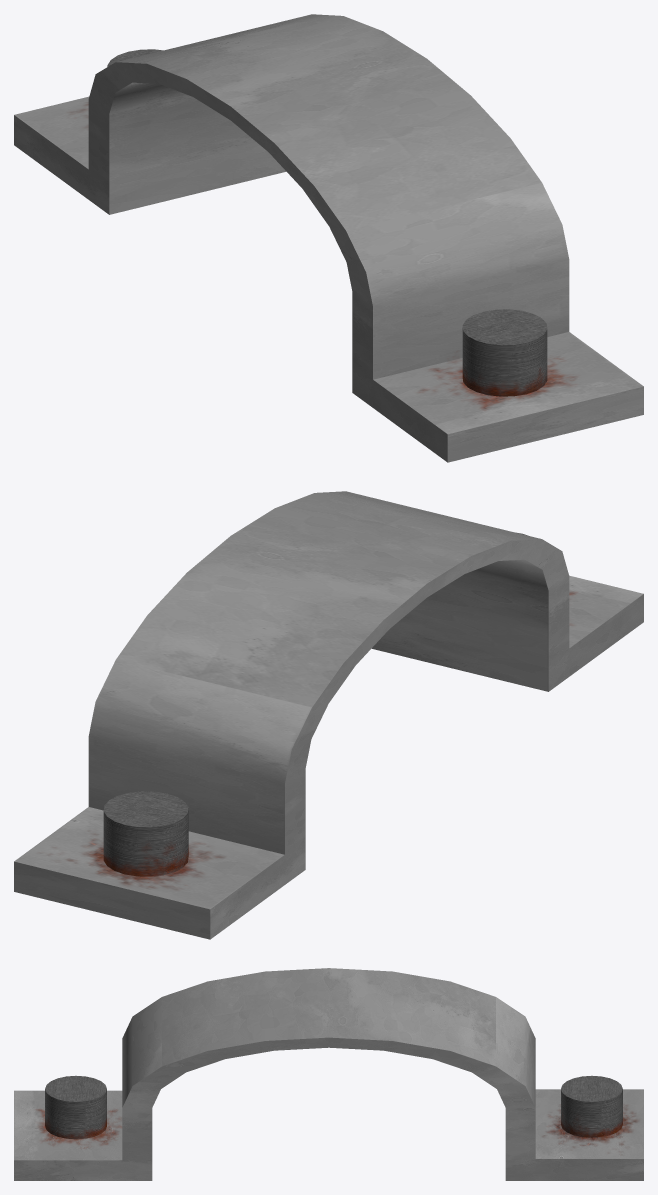
File: metal_cuff.fbx
3 views of the same model, one above another, from view 1: azimuth 30°, elevation 25°; view 2: azimuth 150°, elevation 25°; view 3: azimuth 270°, elevation 25° (orthographic). The views are drawn at different scales.
Visible parts, largest first — view 1: metal_cuff, screw_r; view 2: metal_cuff, screw_l; view 3: metal_cuff, screw_r, screw_l.
Boxes of the visible parts, x1=… form: metal_cuff: x1=14, y1=14, x2=643, y2=462; screw_r: x1=462, y1=309, x2=547, y2=396; metal_cuff: x1=14, y1=491, x2=643, y2=939; screw_l: x1=103, y1=791, x2=188, y2=876; metal_cuff: x1=14, y1=968, x2=643, y2=1180; screw_r: x1=45, y1=1075, x2=106, y2=1139; screw_l: x1=561, y1=1075, x2=622, y2=1137.
Bounding box in the file's own units: 5.31 × 5.1 × 20.33.
3 materials, 3 textured.
